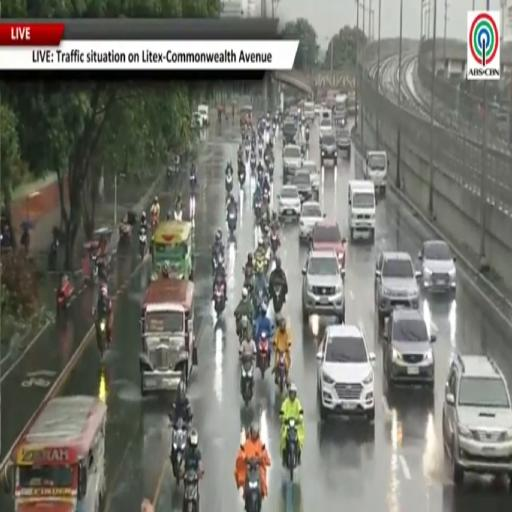car: (442, 354, 511, 485), (317, 325, 375, 422), (383, 309, 435, 388), (375, 251, 420, 327), (302, 251, 345, 323), (419, 240, 456, 293), (310, 219, 346, 268), (364, 151, 388, 196), (300, 202, 323, 239), (292, 169, 317, 201), (93, 227, 119, 257), (283, 144, 302, 183), (278, 185, 300, 218), (301, 160, 320, 191), (321, 133, 337, 166), (336, 127, 350, 156), (282, 119, 297, 145), (319, 117, 332, 141), (303, 101, 315, 122), (198, 105, 209, 126), (192, 112, 202, 129), (315, 104, 322, 117)
jeepney: (5, 396, 106, 511), (140, 279, 197, 395), (152, 220, 193, 280)
motorcycle: (170, 418, 187, 483), (285, 419, 299, 481), (245, 458, 261, 511), (183, 471, 199, 511), (241, 359, 253, 406), (258, 333, 270, 379), (57, 281, 73, 315), (97, 316, 108, 359), (254, 279, 267, 313), (276, 353, 286, 395), (214, 285, 225, 317), (273, 284, 284, 313), (48, 239, 58, 270), (227, 211, 237, 240), (96, 258, 107, 281), (244, 269, 253, 297), (270, 231, 279, 259), (91, 253, 98, 283), (212, 250, 220, 276), (139, 230, 146, 259), (254, 199, 262, 222), (225, 174, 233, 194), (239, 168, 245, 187), (264, 151, 271, 167), (151, 216, 158, 231), (250, 156, 256, 173), (174, 208, 182, 220), (244, 145, 250, 161), (268, 162, 273, 181), (263, 188, 269, 203), (258, 142, 263, 157), (306, 131, 309, 144)
